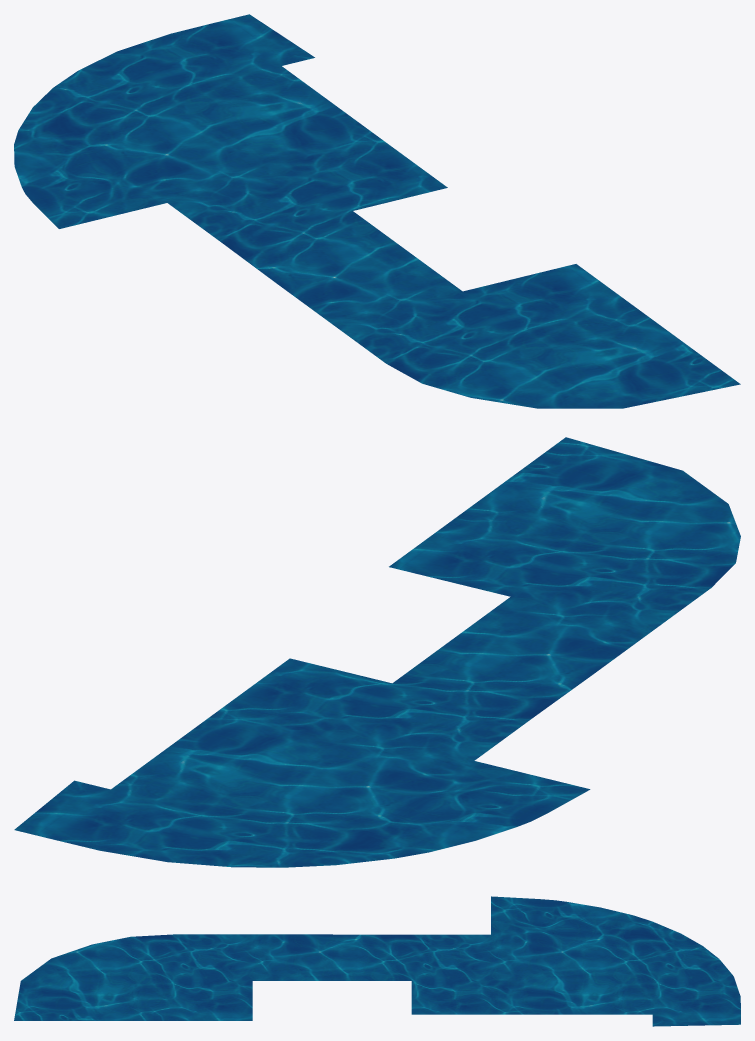
The model's file is water2.obj.
The picture shows the model from 3 angles, top to bottom: view 1: azimuth 30°, elevation 25°; view 2: azimuth 150°, elevation 25°; view 3: azimuth 270°, elevation 25°; orthographic projection. The views are drawn at different scales.
Parts seen in each view (by area): view 1: water:pPlane1; view 2: water:pPlane1; view 3: water:pPlane1.
Part boxes in pixels (x1,y1,x2,y2): water:pPlane1: [14, 14, 740, 408]; water:pPlane1: [14, 437, 740, 867]; water:pPlane1: [14, 896, 740, 1026].
Bounding box in the file's own units: 11.87 × 3.1e-06 × 28.04.
Materials: 1 (1 with a texture image).
